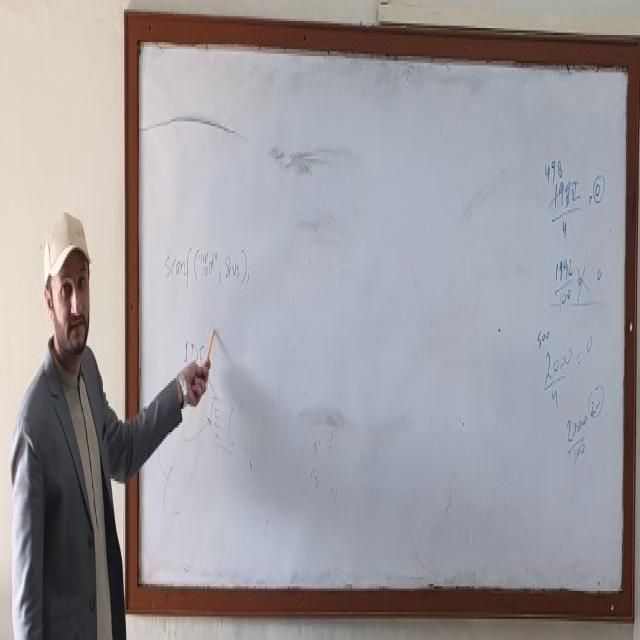Instructor: (15, 185, 120, 640)
White-board: (129, 22, 636, 609)
